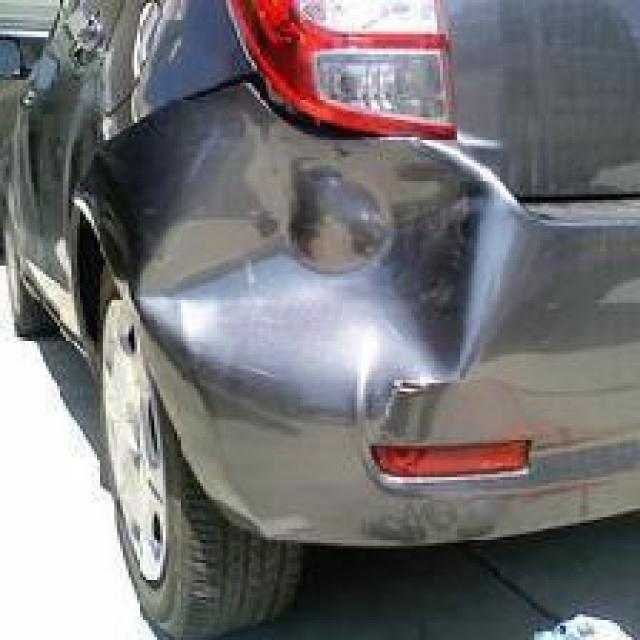damaged: (134, 108, 517, 446)
